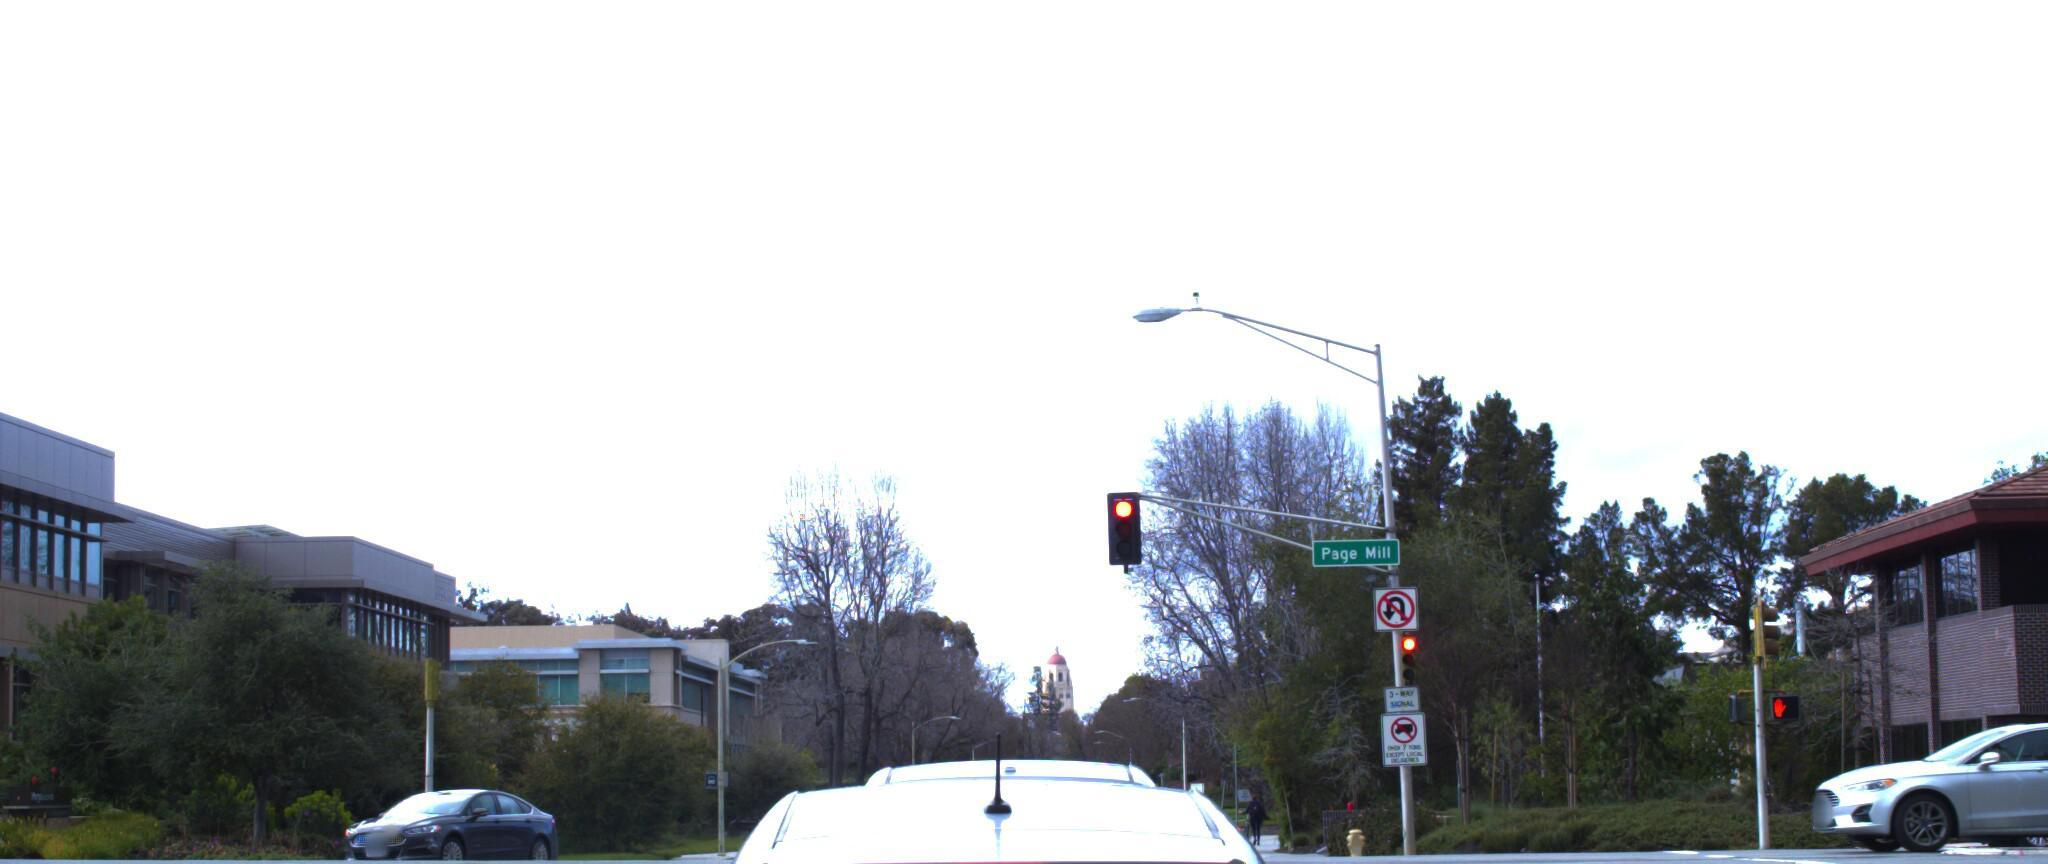car: (543, 743, 1516, 864), (758, 747, 1307, 864), (1775, 685, 2048, 864), (313, 767, 576, 864)
